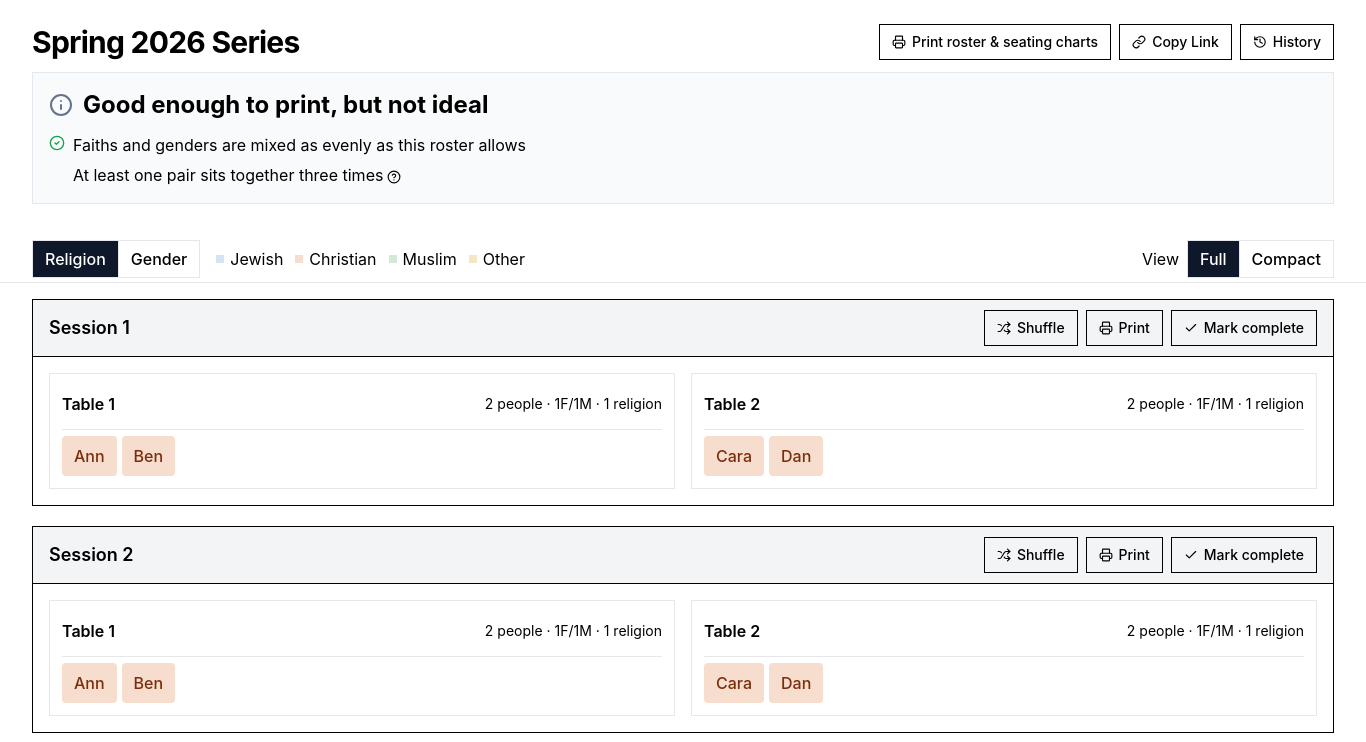
Test: AssignmentsPage › reports a shuffle with a receipt
Click the 2nd button "Shuffle" at (1031,555), box 984,537 -> 1078,573
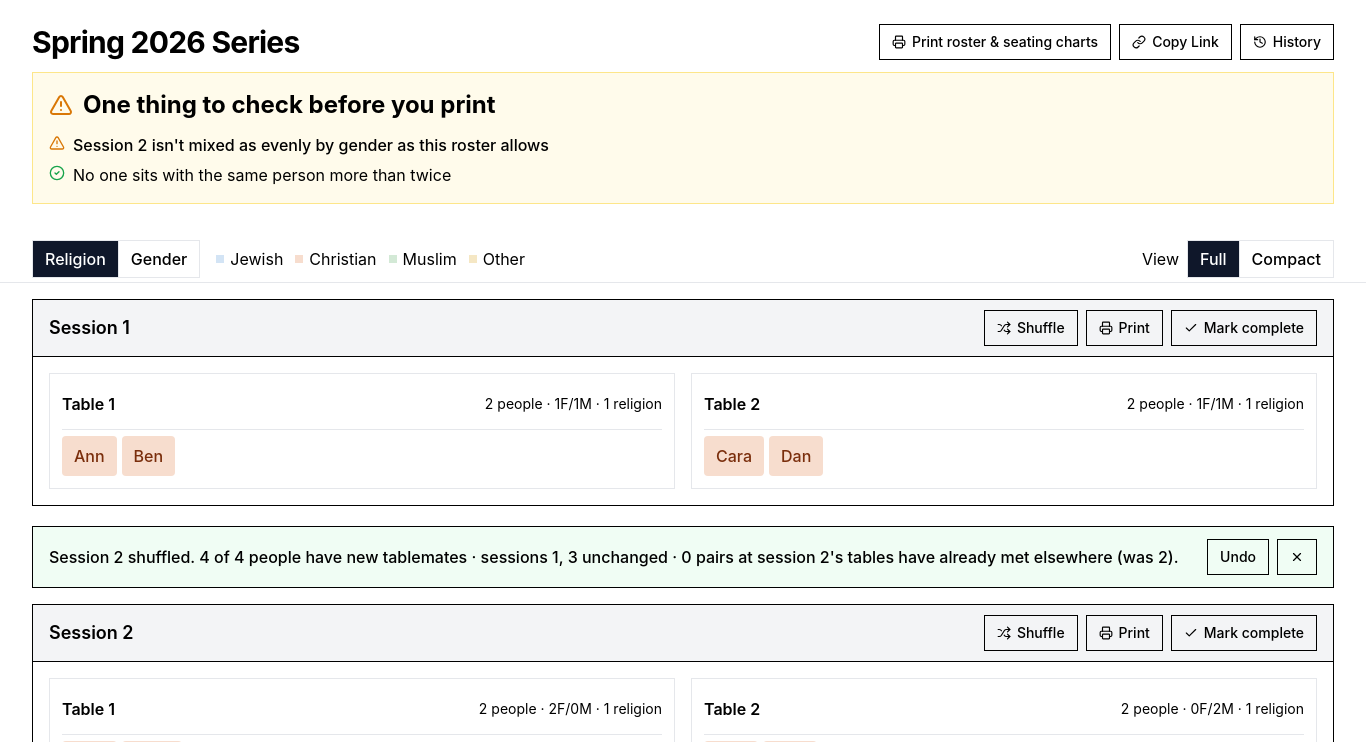
Check: the text "Session 2 shuffled." shows "4 of 4 people have new tablemates", box 49,547 -> 1178,567
Check: the text "Session 2 shuffled." shows "sessions 1, 3 unchanged", box 49,547 -> 1178,567
